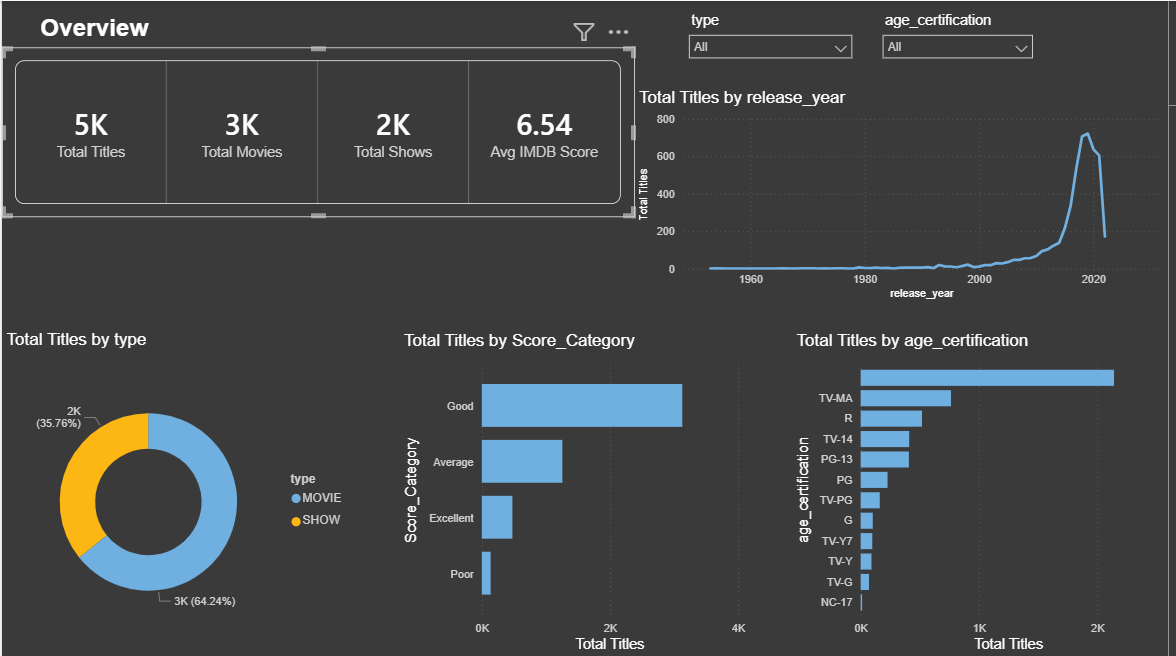

What the dashboard file says about the page in this screenshot:
{"tool":"powerbi","page":{"name":"Overview","canvas":[1280,720],"ordinal":0},"visuals":[{"type":"cardVisual","fields":{"Data":["netflix_clean.Total Titles","netflix_clean.Total Movies","netflix_clean.Total Shows","netflix_clean.Avg IMDB Score"]},"box":[0,51.3,694.2,186.7],"z":0},{"type":"textbox","box":[37.1,10,138.3,41.3],"z":1000},{"type":"donutChart","fields":{"Category":["netflix_clean.type"],"Y":["netflix_clean.Total Titles"]},"box":[0,360.6,387.7,357.8],"z":2000},{"type":"clusteredBarChart","fields":{"Category":["netflix_clean.Score_Category"],"Y":["netflix_clean.Total Titles"]},"box":[436.2,362,384.9,357.8],"z":3000},{"type":"clusteredBarChart","fields":{"Category":["netflix_clean.age_certification"],"Y":["netflix_clean.Total Titles"]},"box":[866.6,362,413.4,357.8],"z":4000},{"type":"lineChart","fields":{"Y":["netflix_clean.Total Titles"],"Category":["netflix_clean.release_year"]},"box":[694.2,94.1,585.8,238],"z":5000},{"type":"slicer","fields":{"Values":["netflix_clean.type"]},"box":[744.1,7.1,199.6,72.7],"z":6000},{"type":"slicer","fields":{"Values":["netflix_clean.age_certification"]},"box":[956.4,7.1,185.3,72.7],"z":7000}]}

Visuals, with their boxes in screenshot pixels (x1, y1, x2, y2), scaled from the page's 1280x720 canvas onto the 1176x656 screenshot:
cardVisual - netflix_clean.Total Titles x netflix_clean.Total Movies: [left=0, top=47, right=638, bottom=217]
textbox: [left=34, top=9, right=161, bottom=47]
donutChart - netflix_clean.type x netflix_clean.Total Titles: [left=0, top=329, right=356, bottom=655]
clusteredBarChart - netflix_clean.Score_Category x netflix_clean.Total Titles: [left=401, top=330, right=754, bottom=655]
clusteredBarChart - netflix_clean.age_certification x netflix_clean.Total Titles: [left=796, top=330, right=1175, bottom=655]
lineChart - netflix_clean.Total Titles x netflix_clean.release_year: [left=638, top=86, right=1175, bottom=303]
slicer - netflix_clean.type: [left=684, top=6, right=867, bottom=73]
slicer - netflix_clean.age_certification: [left=879, top=6, right=1049, bottom=73]
